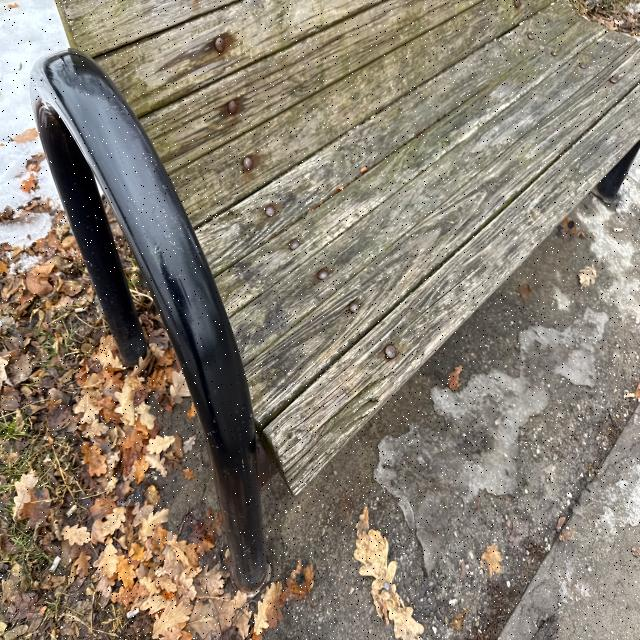Bench: (19, 2, 554, 517)
